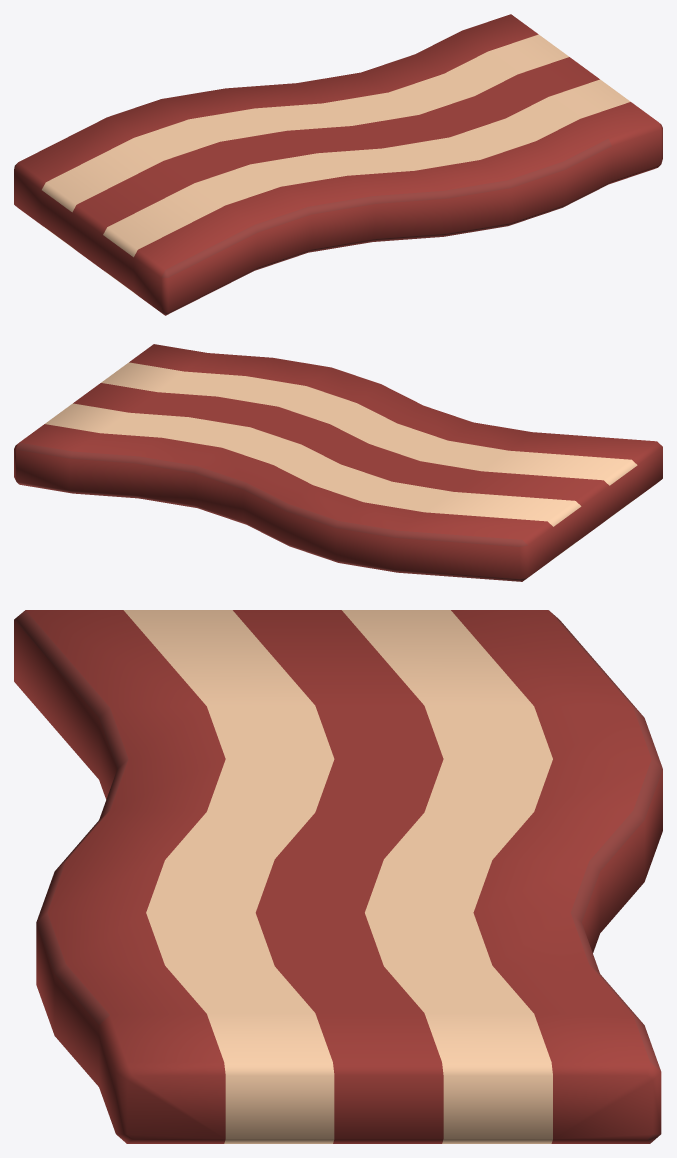
File: Bacon_Hotdog_half.002.fbx
The picture shows the model from 3 angles, top to bottom: view 1: azimuth 30°, elevation 25°; view 2: azimuth 150°, elevation 25°; view 3: azimuth 270°, elevation 25°; orthographic projection. The views are drawn at different scales.
Visible parts, largest first — view 1: Bacon_Hotdog_half.002; view 2: Bacon_Hotdog_half.002; view 3: Bacon_Hotdog_half.002.
Part boxes in pixels (<box>): Bacon_Hotdog_half.002: <box>14,14,662,315</box>; Bacon_Hotdog_half.002: <box>14,344,662,581</box>; Bacon_Hotdog_half.002: <box>14,610,662,1143</box>.
Bounding box in the file's own units: 64.34 × 38.27 × 5.32.
